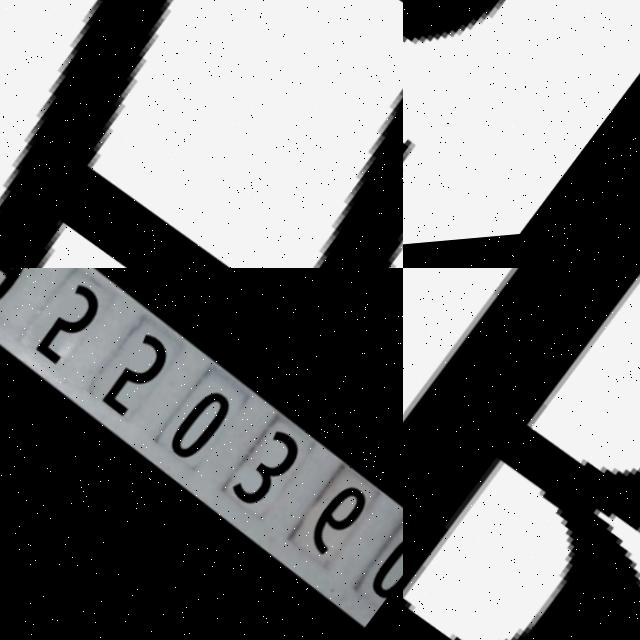0: (149, 380, 241, 483), (349, 525, 403, 617)
3: (214, 423, 312, 532)
5: (79, 322, 182, 436), (14, 272, 113, 383)
6: (403, 0, 640, 268), (285, 476, 379, 579)
9: (0, 268, 49, 333)
B: (403, 268, 640, 640)
H: (0, 0, 403, 268)
